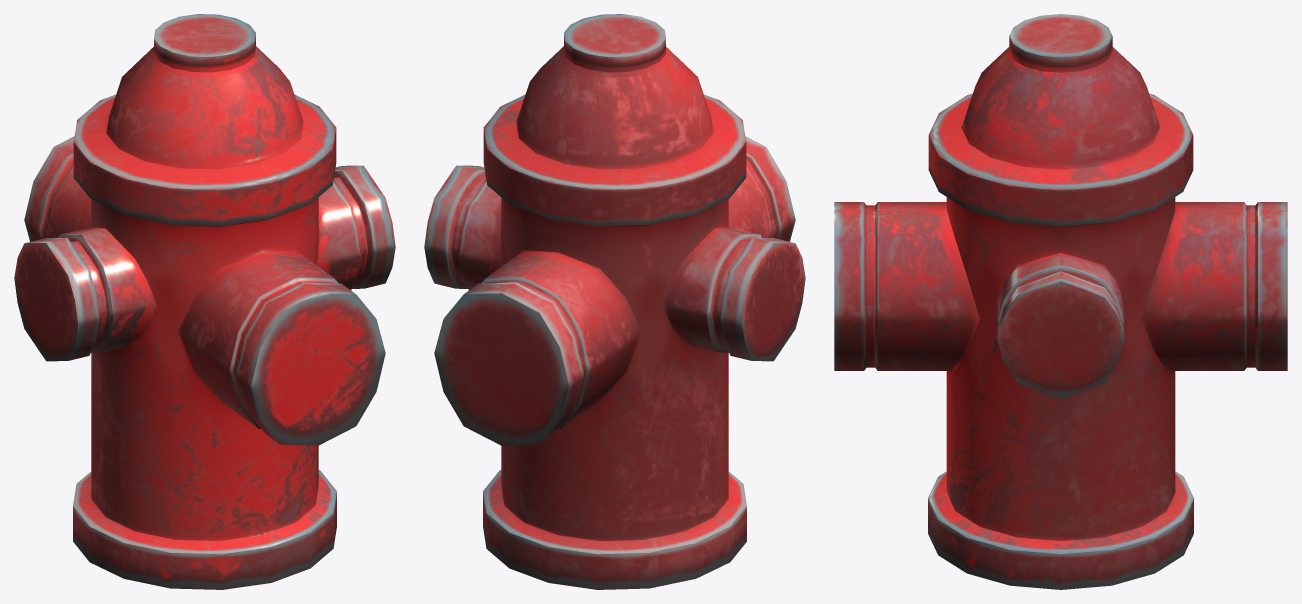
The model's file is hydrant.fbx.
3 views of the same model, side by side, from view 1: azimuth 30°, elevation 25°; view 2: azimuth 150°, elevation 25°; view 3: azimuth 270°, elevation 25° (orthographic).
Visible parts, largest first — view 1: hydrant_low; view 2: hydrant_low; view 3: hydrant_low.
Part boxes in pixels (<box>): hydrant_low: <box>14,14,395,589</box>; hydrant_low: <box>424,14,805,589</box>; hydrant_low: <box>834,14,1287,589</box>.
Size of the model in its own units: 80.03 by 120 by 99.
Materials: 1 (1 with a texture image).
